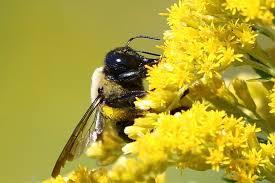Xylocopa: (47, 31, 178, 171)
